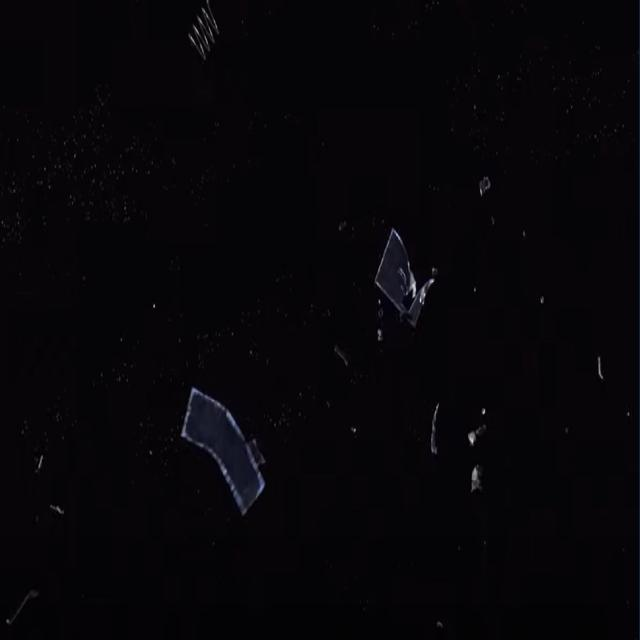large_debris: (172, 364, 281, 534), (351, 201, 452, 369), (181, 0, 227, 71), (415, 388, 440, 472), (462, 394, 494, 453), (472, 163, 502, 214), (462, 464, 488, 506)
